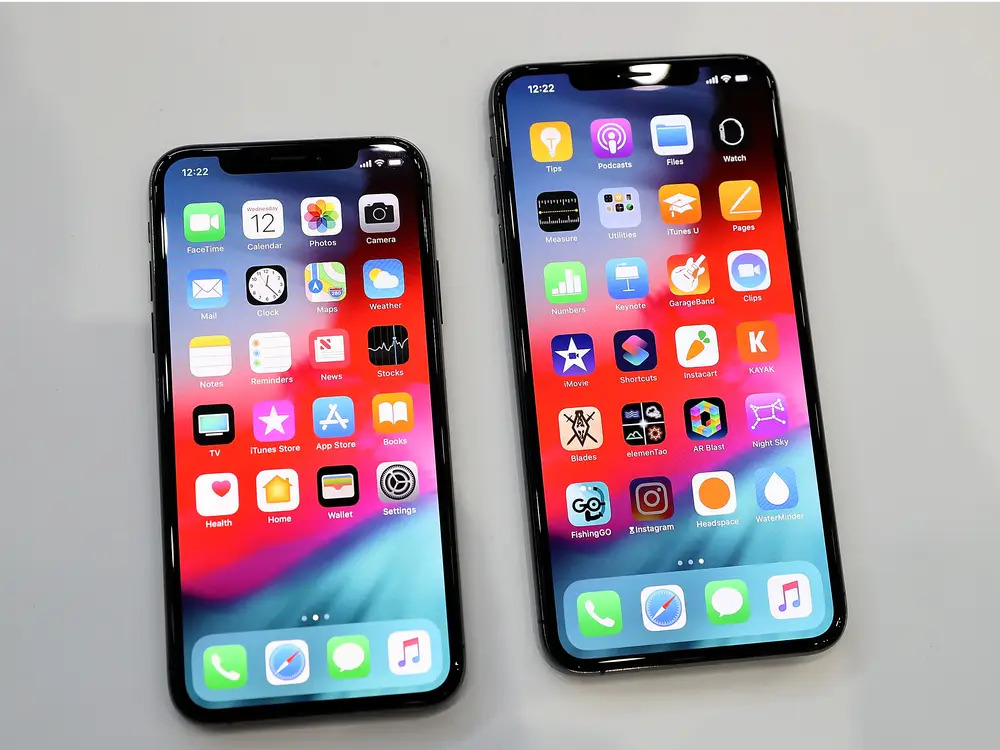phones: (477, 50, 860, 679), (139, 132, 477, 733)
